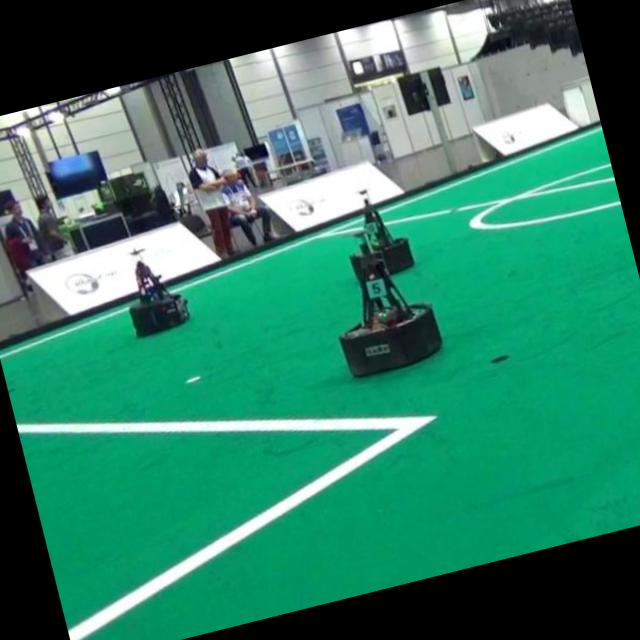robot: (340, 232, 443, 377), (129, 260, 188, 335), (361, 189, 413, 274)
